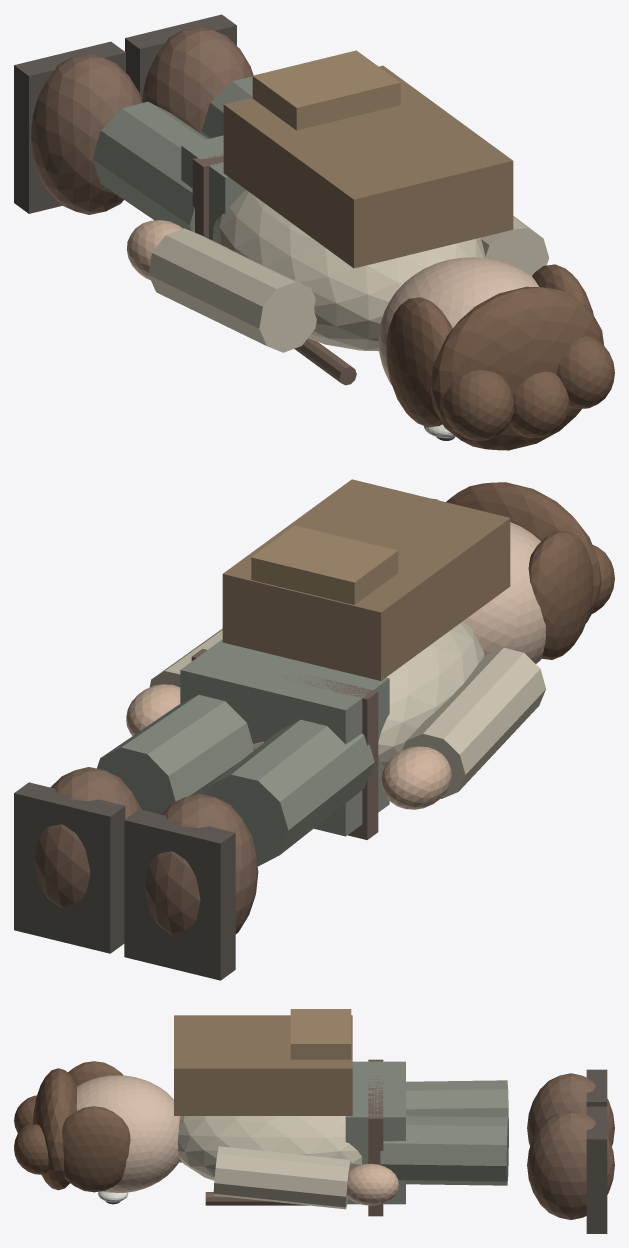
The model's file is explorador_inicial.glb.
3 renders of one model, top to bottom at view 1: azimuth 30°, elevation 25°; view 2: azimuth 150°, elevation 25°; view 3: azimuth 270°, elevation 25°, orthographic. The views are drawn at different scales.
Visible parts, largest first — view 1: backpack, torso, hair_cap, arm_-1, boot_-1, leg_-1, backpack_pocket, boot_1, head, hair_side_-1, boot_sole_-1, hair_tuft_0 (+10 smaller); view 2: backpack, cargo_pants_waist, leg_-1, boot_sole_-1, boot_sole_1, leg_1, arm_-1, backpack_pocket, boot_-1, torso, hair_side_-1, boot_1 (+7 smaller); view 3: backpack, leg_1, torso, head, arm_1, boot_1, hair_side_1, cargo_pants_waist, leg_-1, hair_cap, backpack_pocket, boot_sole_1 (+8 smaller).
Part boxes in pixels (x1=…): backpack: x1=223, y1=65, x2=513, y2=268; torso: x1=213, y1=190, x2=485, y2=351; hair_cap: x1=430, y1=286, x2=604, y2=450; arm_-1: x1=148, y1=228, x2=316, y2=352; boot_-1: x1=30, y1=54, x2=142, y2=214; leg_-1: x1=92, y1=101, x2=207, y2=232; backpack_pocket: x1=252, y1=50, x2=400, y2=130; boot_1: x1=142, y1=26, x2=253, y2=134; head: x1=378, y1=257, x2=539, y2=425; hair_side_-1: x1=386, y1=297, x2=452, y2=427; boot_sole_-1: x1=14, y1=41, x2=125, y2=213; hair_tuft_0: x1=442, y1=370, x2=514, y2=440; backpack: x1=222, y1=479, x2=510, y2=680; cargo_pants_waist: x1=180, y1=639, x2=389, y2=836; leg_-1: x1=206, y1=719, x2=374, y2=866; boot_sole_-1: x1=124, y1=809, x2=235, y2=980; boot_sole_1: x1=14, y1=782, x2=125, y2=953; leg_1: x1=97, y1=695, x2=253, y2=814; arm_-1: x1=402, y1=647, x2=545, y2=798; backpack_pocket: x1=251, y1=525, x2=398, y2=604; boot_-1: x1=144, y1=794, x2=258, y2=935; torso: x1=253, y1=621, x2=484, y2=766; hair_side_-1: x1=528, y1=530, x2=593, y2=659; boot_1: x1=34, y1=767, x2=141, y2=908; backpack: x1=174, y1=1015, x2=352, y2=1115; leg_1: x1=380, y1=1116, x2=508, y2=1185; torso: x1=178, y1=1116, x2=361, y2=1180; head: x1=76, y1=1075, x2=180, y2=1192; arm_1: x1=213, y1=1146, x2=351, y2=1209; boot_1: x1=527, y1=1110, x2=614, y2=1219; hair_side_1: x1=62, y1=1106, x2=130, y2=1192; cargo_pants_waist: x1=345, y1=1061, x2=405, y2=1204; leg_-1: x1=406, y1=1080, x2=508, y2=1128; hair_cap: x1=32, y1=1068, x2=76, y2=1190; backpack_pocket: x1=290, y1=1009, x2=351, y2=1059; boot_sole_1: x1=586, y1=1106, x2=607, y2=1233.
Bounding box in the file's own units: 0.9228 × 0.6925 × 2.19.
